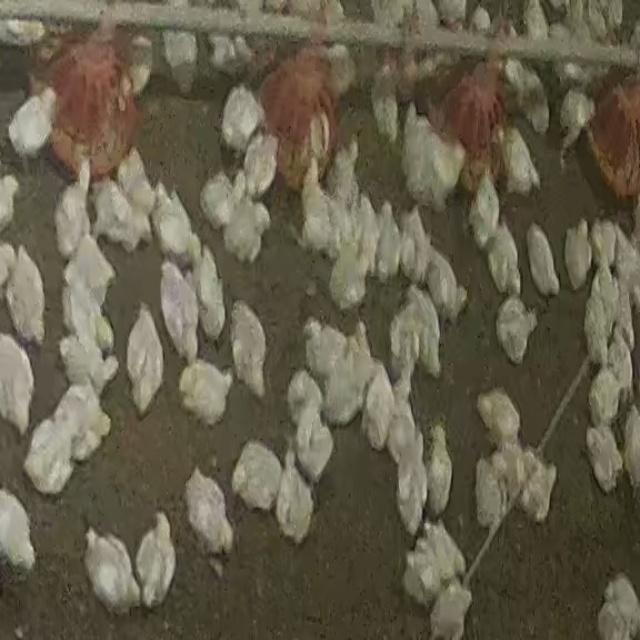chicken: (24, 385, 110, 496), (304, 318, 376, 428), (398, 104, 466, 214), (383, 404, 428, 534), (82, 524, 144, 616), (182, 468, 237, 570), (388, 288, 440, 388), (288, 375, 334, 486), (57, 330, 120, 408), (3, 242, 48, 350), (89, 172, 146, 254), (158, 259, 202, 365), (125, 307, 166, 417), (134, 513, 178, 611), (229, 301, 271, 402), (231, 439, 285, 515), (64, 232, 118, 308), (0, 329, 37, 437), (149, 180, 197, 263), (221, 190, 271, 269), (6, 90, 56, 169), (328, 226, 372, 315), (276, 451, 318, 543), (502, 61, 549, 138), (218, 82, 266, 157), (0, 487, 39, 579), (53, 171, 92, 263), (298, 159, 334, 255), (515, 450, 561, 524), (500, 124, 544, 199), (420, 520, 468, 588), (583, 269, 616, 367), (423, 245, 463, 322), (195, 246, 227, 342), (179, 363, 231, 421), (495, 296, 539, 364), (485, 220, 523, 298), (475, 388, 522, 448), (587, 364, 626, 436), (556, 86, 596, 156), (525, 222, 562, 297), (369, 65, 402, 148), (473, 453, 508, 531), (598, 572, 638, 640), (425, 426, 454, 519), (585, 423, 622, 495), (241, 127, 279, 197), (374, 200, 406, 283), (468, 174, 502, 252), (162, 28, 200, 94), (204, 31, 254, 80), (604, 326, 635, 405), (428, 585, 472, 640), (353, 192, 381, 276), (562, 220, 594, 292), (198, 172, 236, 232), (610, 223, 640, 299), (406, 549, 440, 607), (592, 218, 620, 275), (519, 0, 549, 42)
